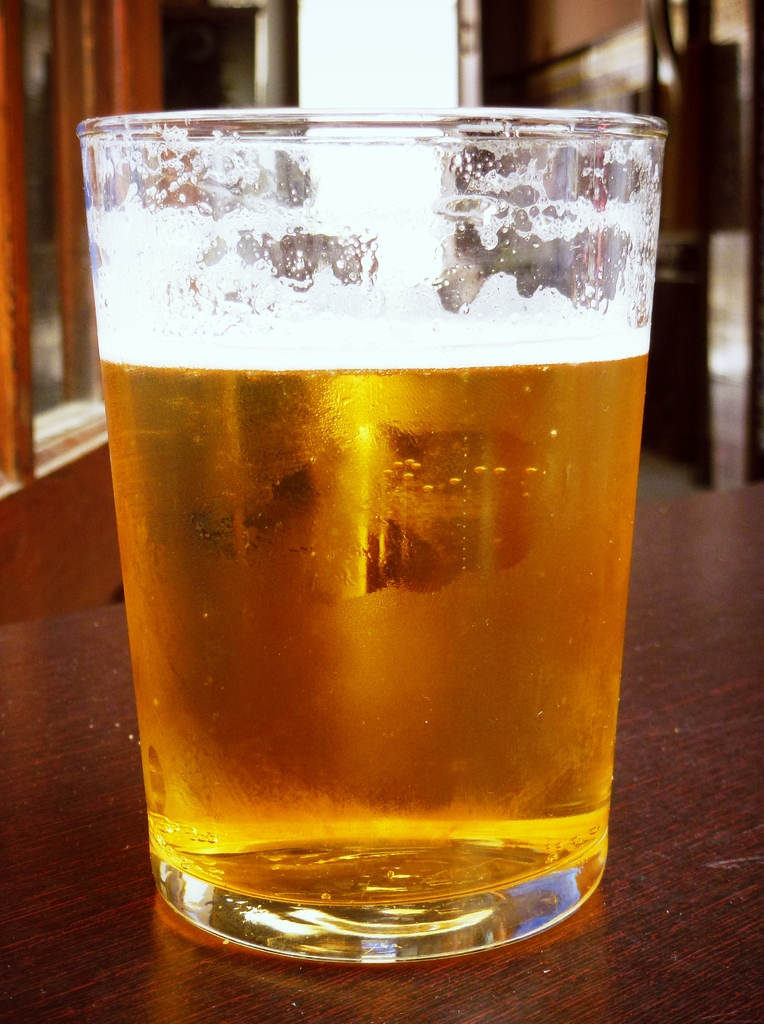Beer: (75, 107, 667, 963)
